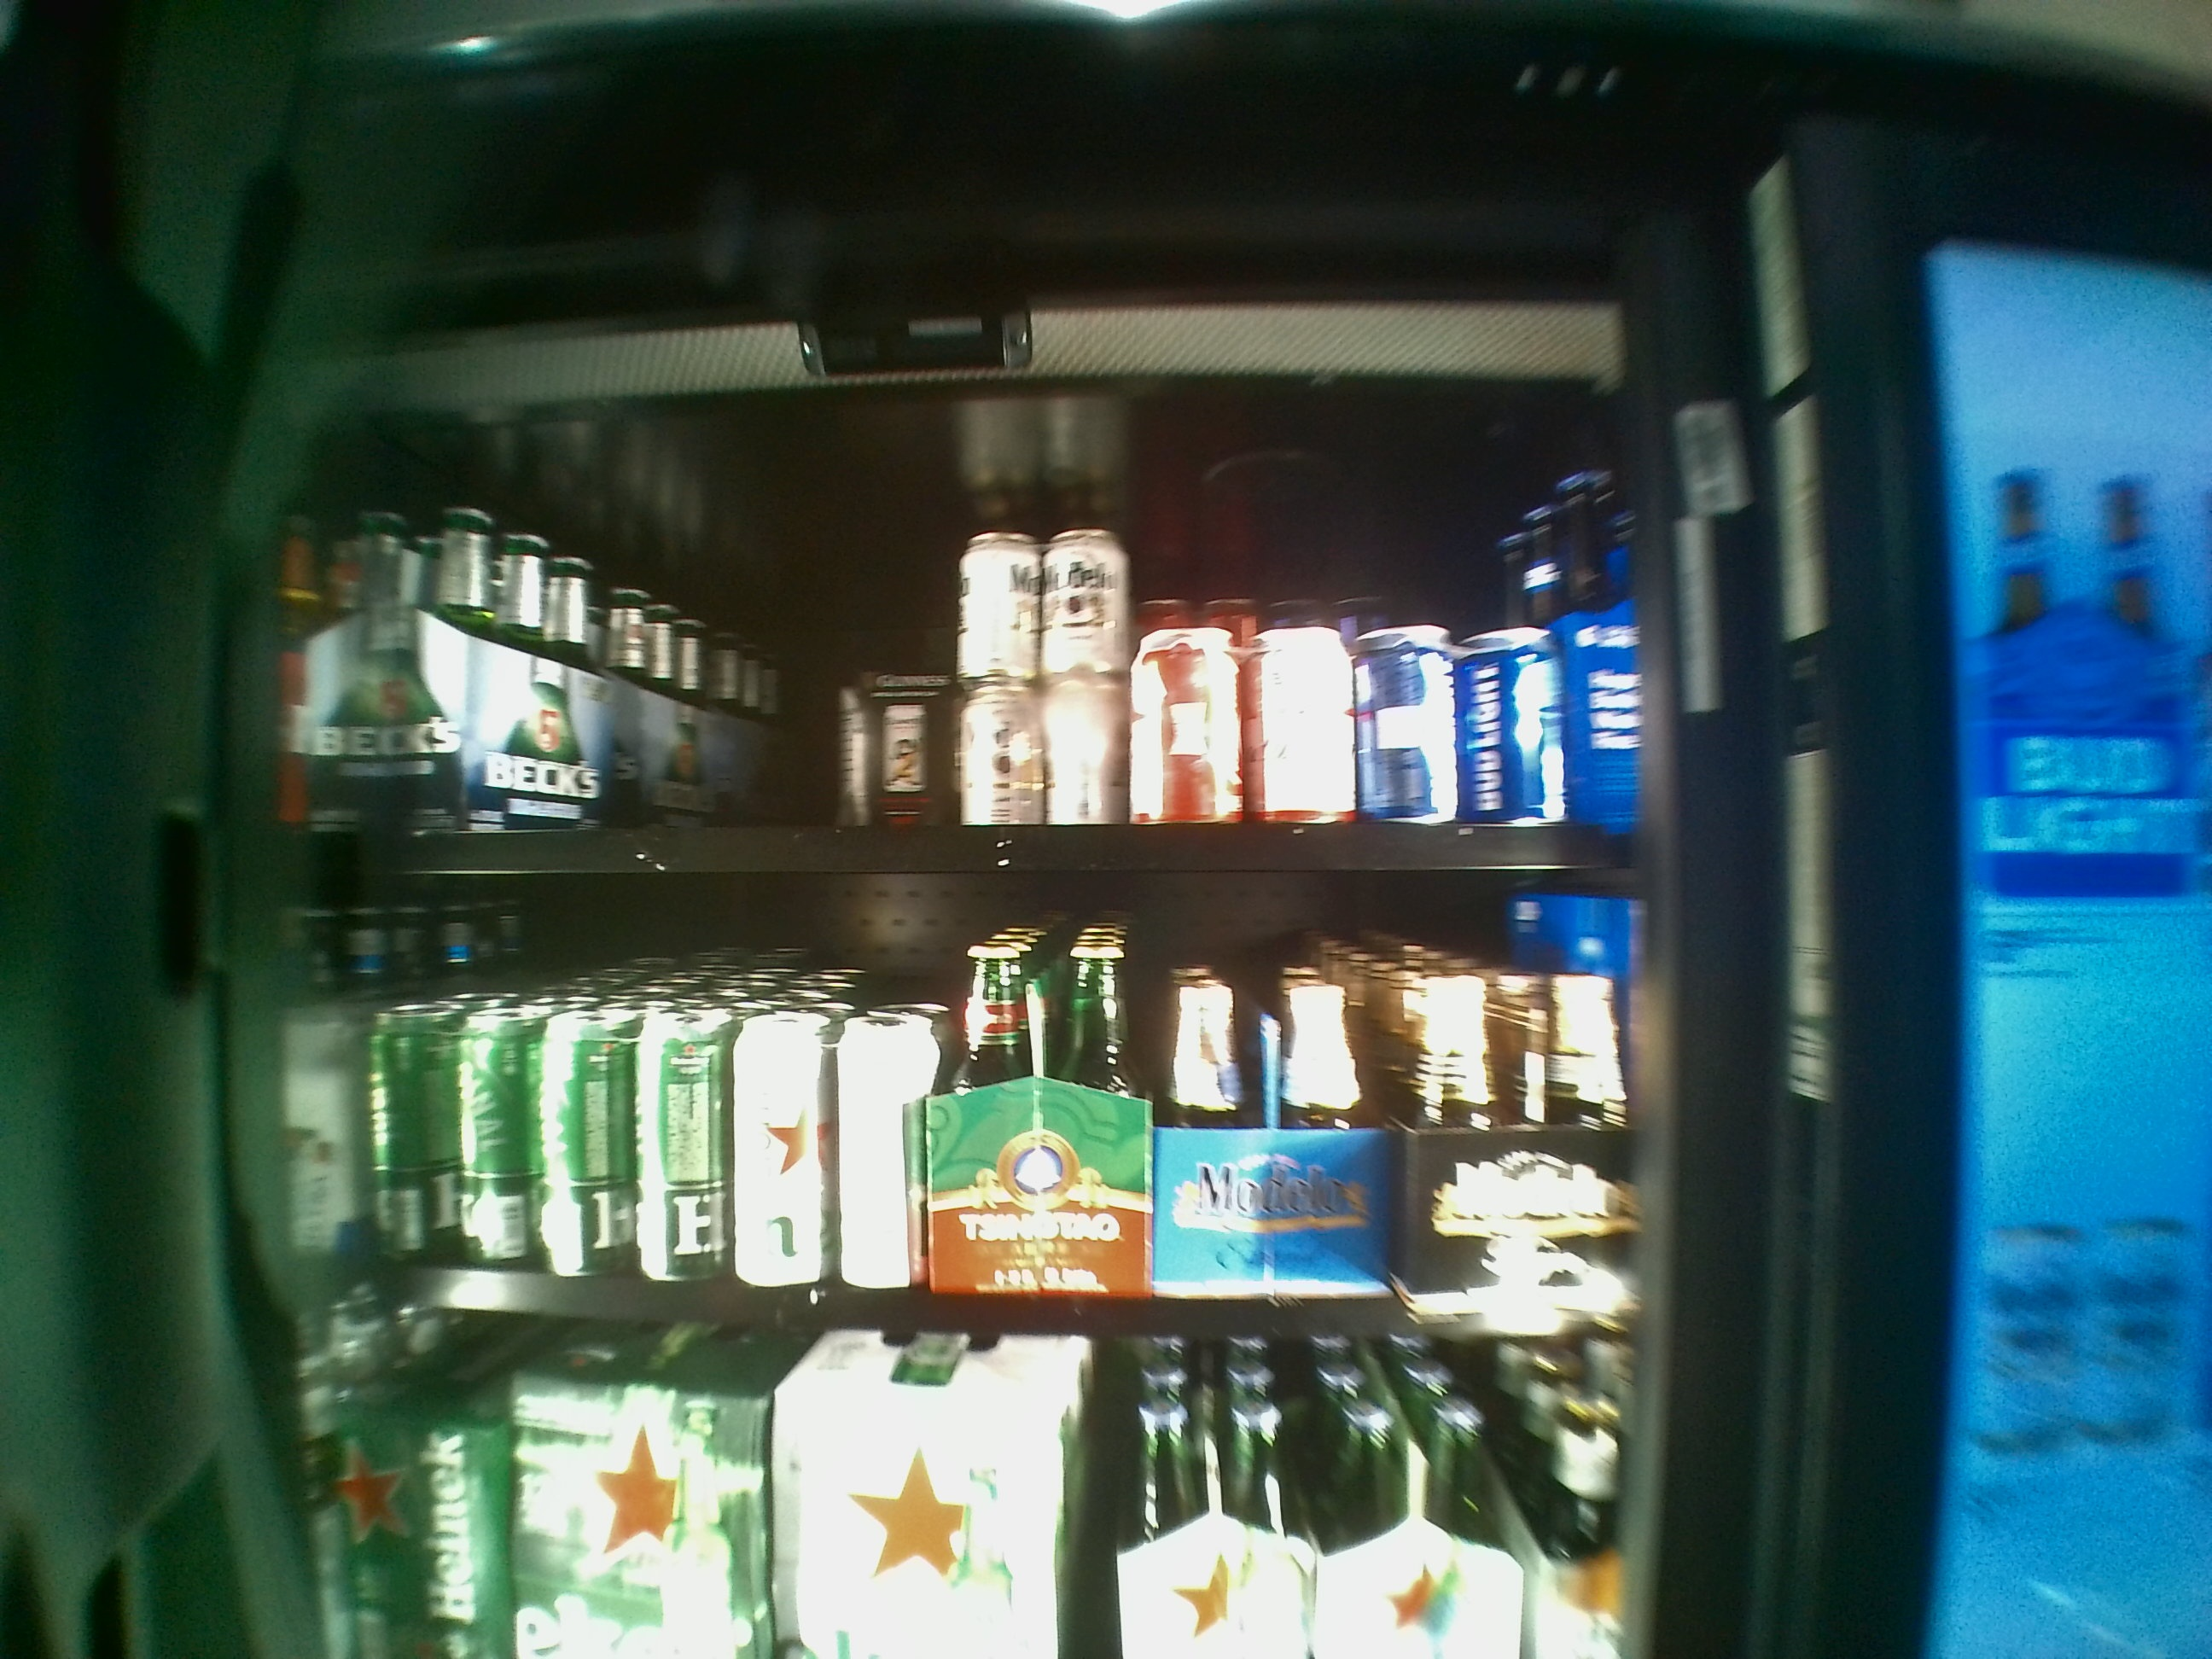shelf: (315, 420, 1627, 878), (319, 892, 1622, 1344)
